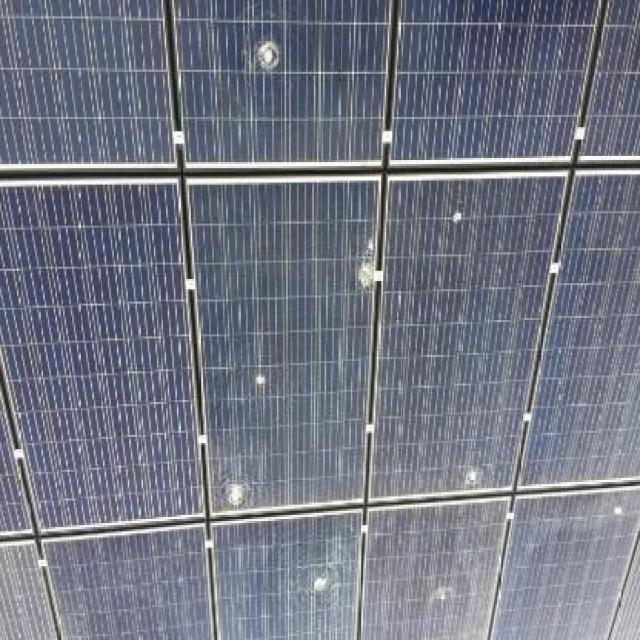cracked: (192, 176, 377, 521), (377, 174, 565, 498), (174, 0, 394, 164), (362, 496, 506, 638), (494, 492, 634, 638), (214, 502, 360, 638)
